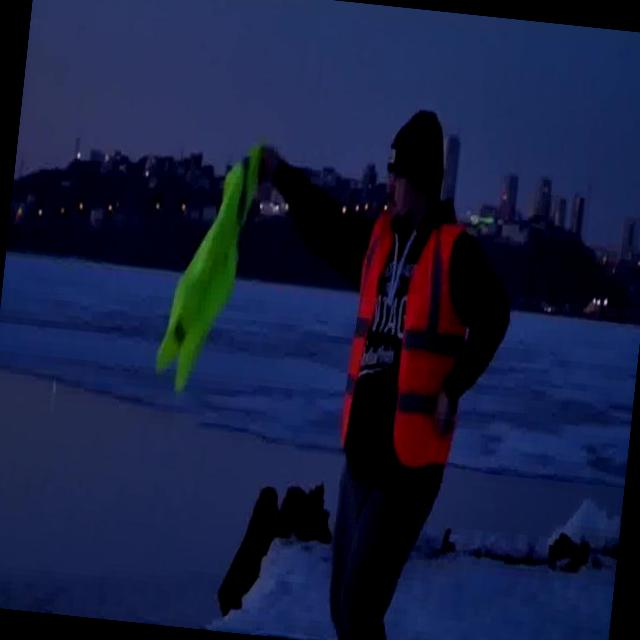no-gloves: (233, 122, 290, 198), (426, 374, 487, 444)
no-helmet: (354, 98, 491, 232)
vest: (335, 205, 480, 473)
